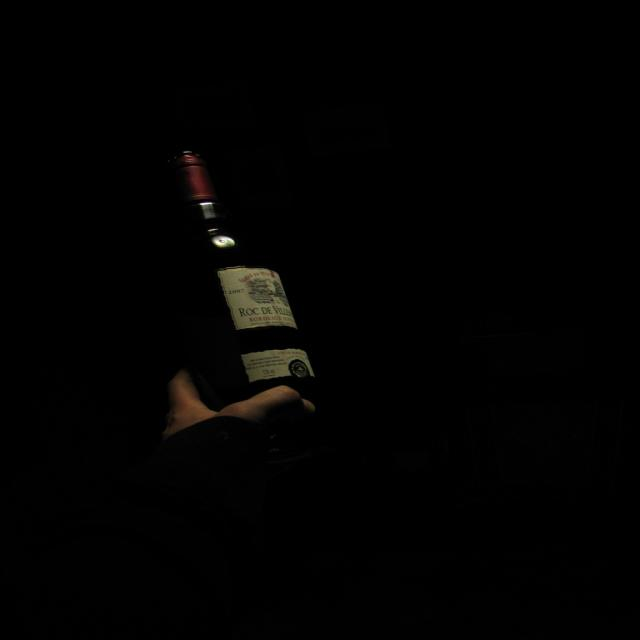Bottle: (131, 147, 356, 478)
